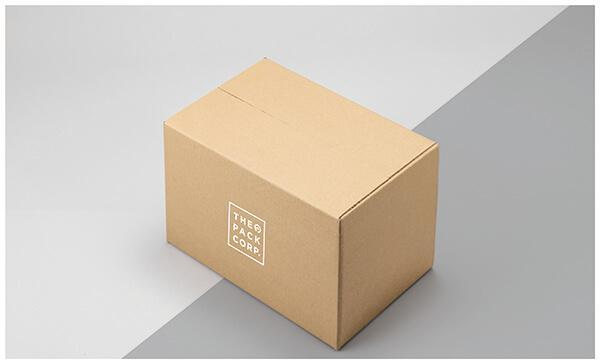box: (162, 57, 439, 352)
